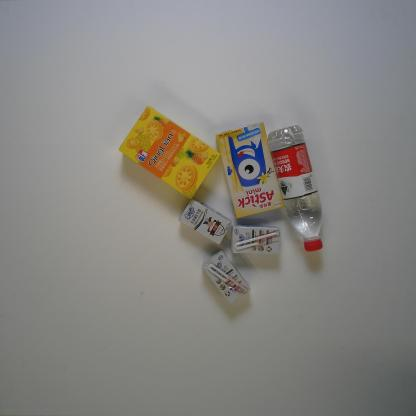Dessert: (118, 105, 221, 199), (215, 122, 285, 219)
Drink: (267, 125, 324, 252)
Milk: (202, 250, 252, 305), (178, 198, 232, 245), (230, 224, 281, 255)
